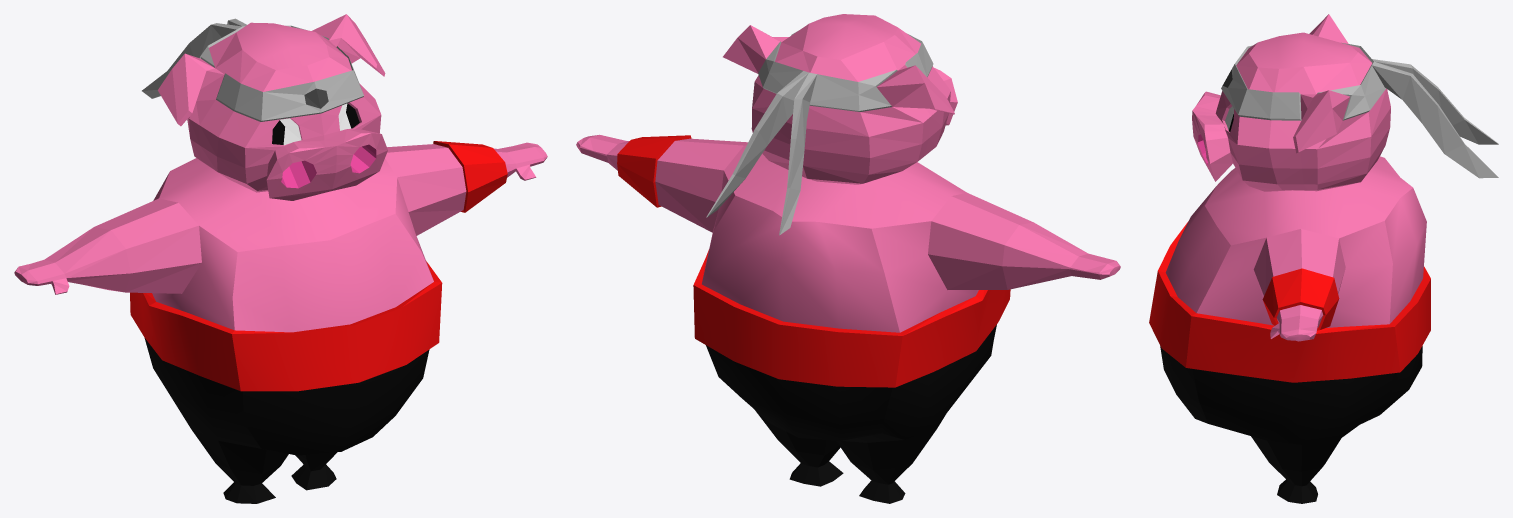
File: Kamikaze Pig.FBX
3 renders of one model, left to right at view 1: azimuth 30°, elevation 25°; view 2: azimuth 150°, elevation 25°; view 3: azimuth 270°, elevation 25°, orthographic. The views are drawn at different scales.
Parts seen in each view (by area): view 1: Base Mesh; view 2: Base Mesh; view 3: Base Mesh.
Part boxes in pixels (x1=…): Base Mesh: x1=14, y1=14, x2=547, y2=503; Base Mesh: x1=576, y1=14, x2=1120, y2=503; Base Mesh: x1=1149, y1=14, x2=1498, y2=503.
Bounding box in the file's own units: 53.03 × 43.94 × 31.9.
